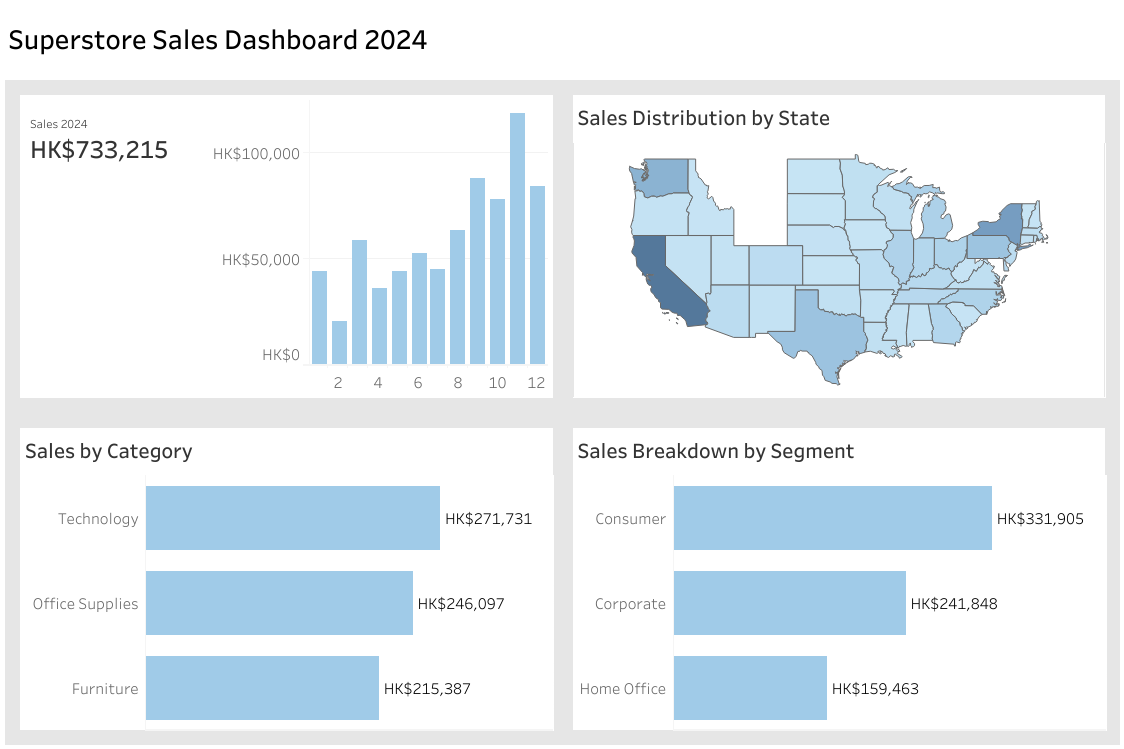

The dashboard page shown, as its layout file describes it:
{"tool":"tableau","page":{"name":"儀表板 1","canvas":[900,600],"ordinal":0},"visuals":[{"type":"text","box":[0,0,900,60]},{"type":"worksheet","title":"US Map","mark":"Multipolygon","box":[450,68,442,258]},{"type":"worksheet","title":"2024 Sales KPI","mark":"Automatic","box":[16,76,150,242]},{"type":"worksheet","title":"Sales Monthly Bar","mark":"Bar","rows":["Sales"],"cols":["Order Date"],"box":[166,76,275.9,242]},{"type":"worksheet","title":"Sales by Category","mark":"Automatic","rows":["Category"],"cols":["Sales"],"box":[8,334,442,258]},{"type":"worksheet","title":"Sales by Segment","mark":"Automatic","rows":["Segment"],"cols":["Sales"],"box":[450,334,442,258]}]}

Visuals, with their boxes in screenshot pixels (x1, y1, x2, y2), scaled from the page's 900x600 canvas onto the 1124x749 screenshot:
text: x1=0, y1=0, x2=1123, y2=75
"US Map" worksheet (Multipolygon marks): x1=562, y1=85, x2=1114, y2=407
"2024 Sales KPI" worksheet: x1=20, y1=95, x2=207, y2=397
"Sales Monthly Bar" worksheet (Bar marks): x1=207, y1=95, x2=552, y2=397
"Sales by Category" worksheet: x1=10, y1=417, x2=562, y2=739
"Sales by Segment" worksheet: x1=562, y1=417, x2=1114, y2=739
